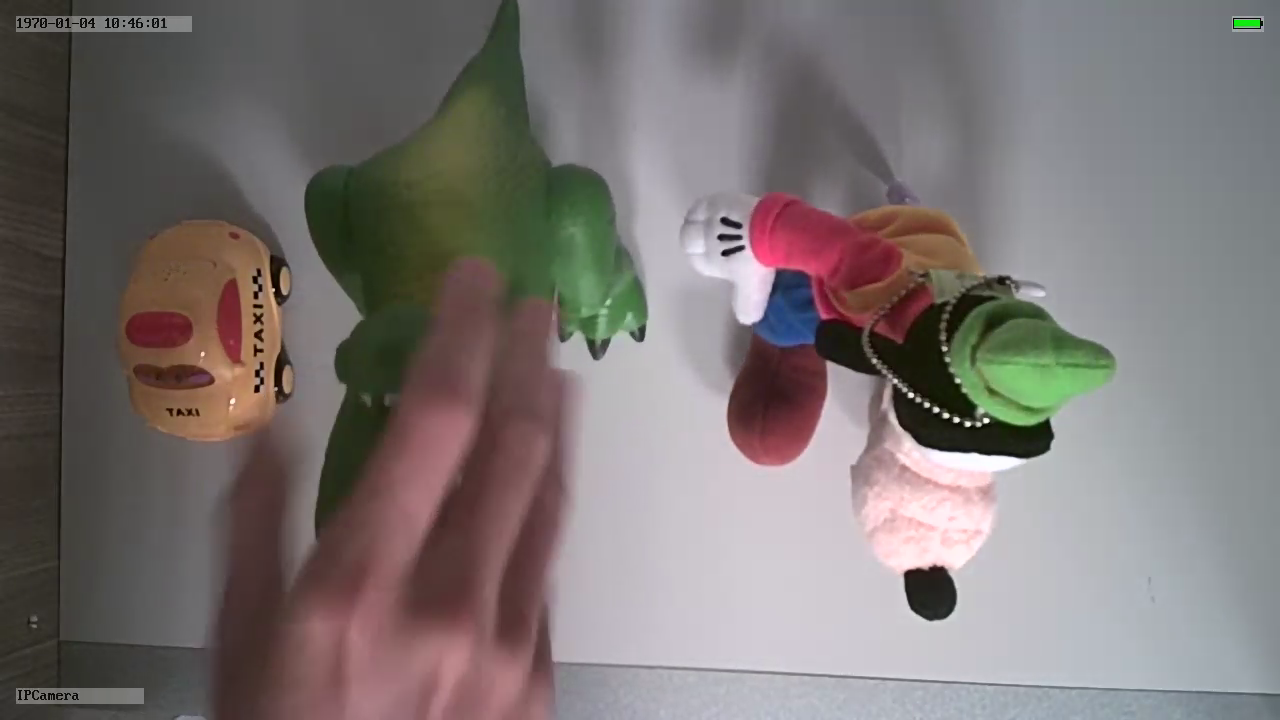goofy: (678, 181, 1119, 626)
